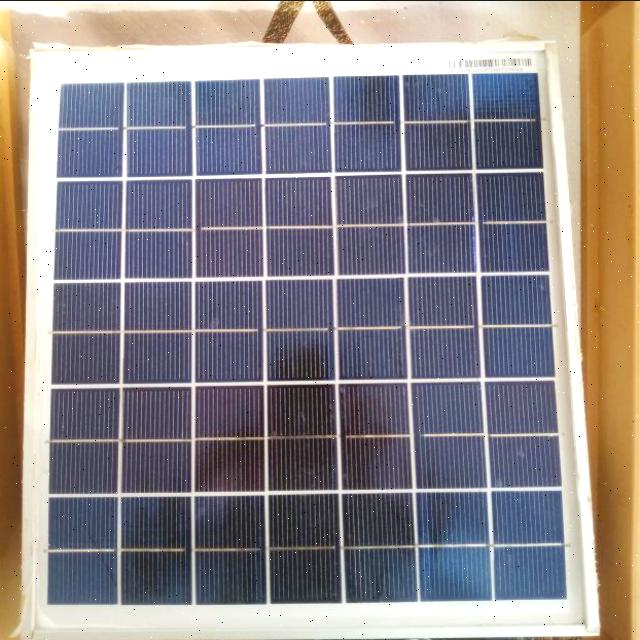Normal Solar Panel: (31, 46, 593, 636)
